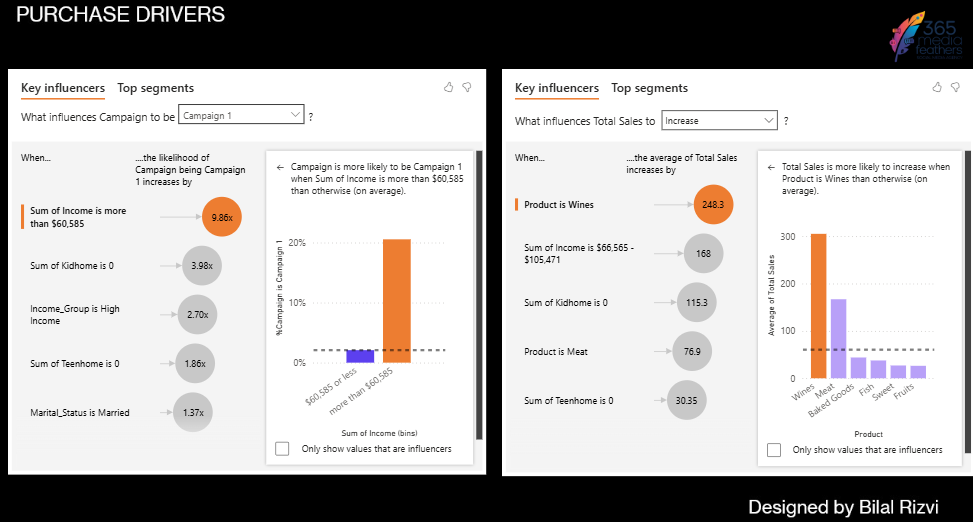

What the dashboard file says about the page in this screenshot:
{"tool":"powerbi","page":{"name":"Purchase Drivers","canvas":[1280,720],"ordinal":2},"visuals":[{"type":"keyDriversVisual","fields":{"Target":["Campaigns.Campaign"],"ExplainBy":["Sum(CustomerData. Income )","CustomerData.Age","CustomerData.Income_Group","CustomerData.Country","Sum(CustomerData.Kidhome)","CustomerData.Marital_Status","Sum(CustomerData.Teenhome)"]},"box":[14.3,102.9,625.7,531.4],"z":0},{"type":"keyDriversVisual","fields":{"Target":["Total Sales.Total Sales"],"ExplainBy":["Sum(CustomerData. Income )","CustomerData.Age","CustomerData.Country","Sum(CustomerData.Kidhome)","Sum(CustomerData.Teenhome)","Total Sales.Product","CustomerData.Marital_Status"]},"box":[661.4,102.9,618.6,532.9],"z":1000}]}

Visuals, with their boxes on the page's 1280x720 design canvas (x1, y1, x2, y2). These are canvas units, not pixel positions in the 973x522 screenshot, which may show the page scaled, cropped or inside an application window:
keyDriversVisual - Campaigns.Campaign x Sum(CustomerData. Income ): box(14, 103, 640, 634)
keyDriversVisual - Total Sales.Total Sales x Sum(CustomerData. Income ): box(661, 103, 1280, 636)
